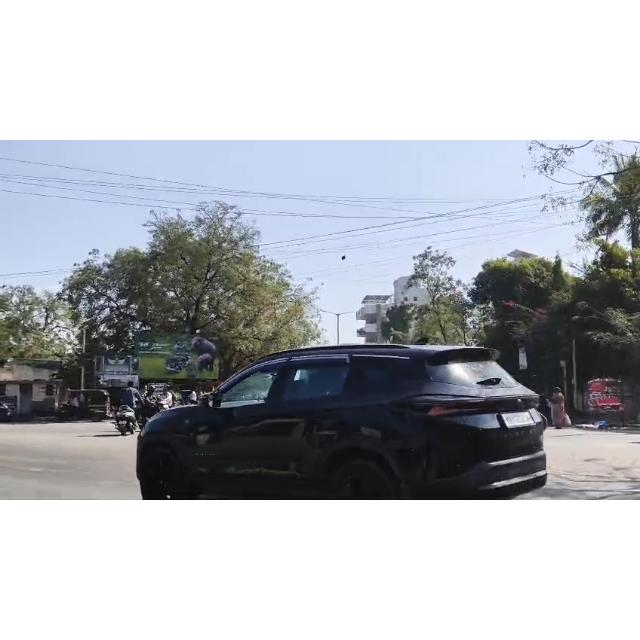auto: (58, 388, 111, 422)
car: (126, 337, 557, 498)
